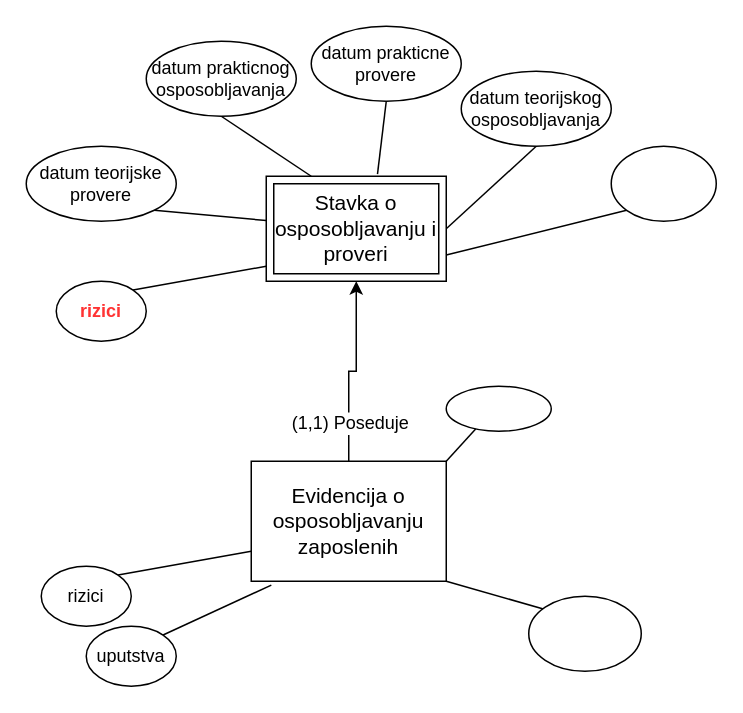
This 743x713 diagram has some shape labels left out. The box of each missing label's shape, as (x1, y1, x2, y2) in pixels:
id#: (445, 385, 551, 431)
konkretne mere: (527, 595, 641, 671)
rb#: (610, 145, 716, 221)
